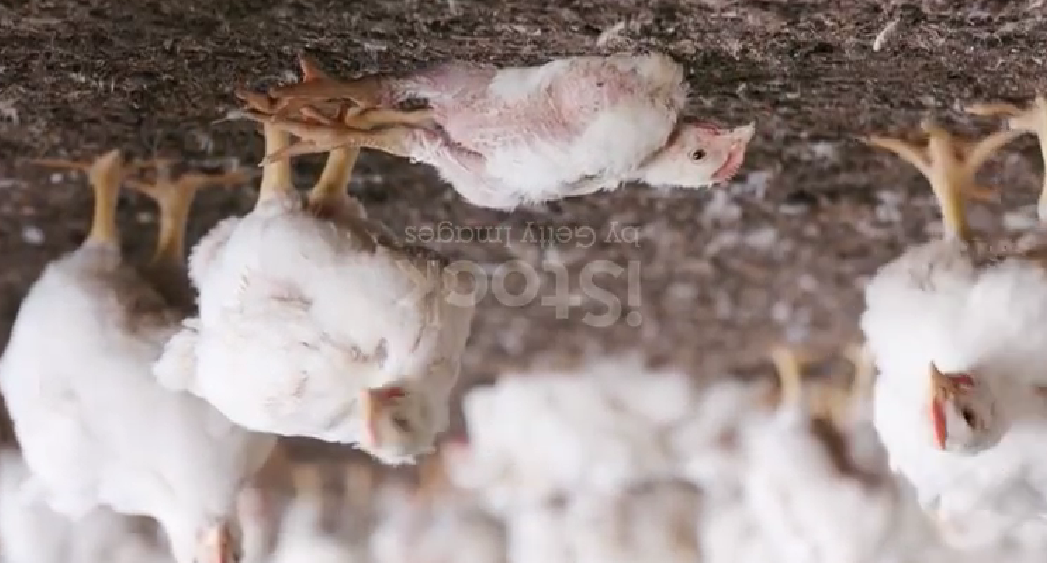Unhealthy: (243, 40, 789, 221)
